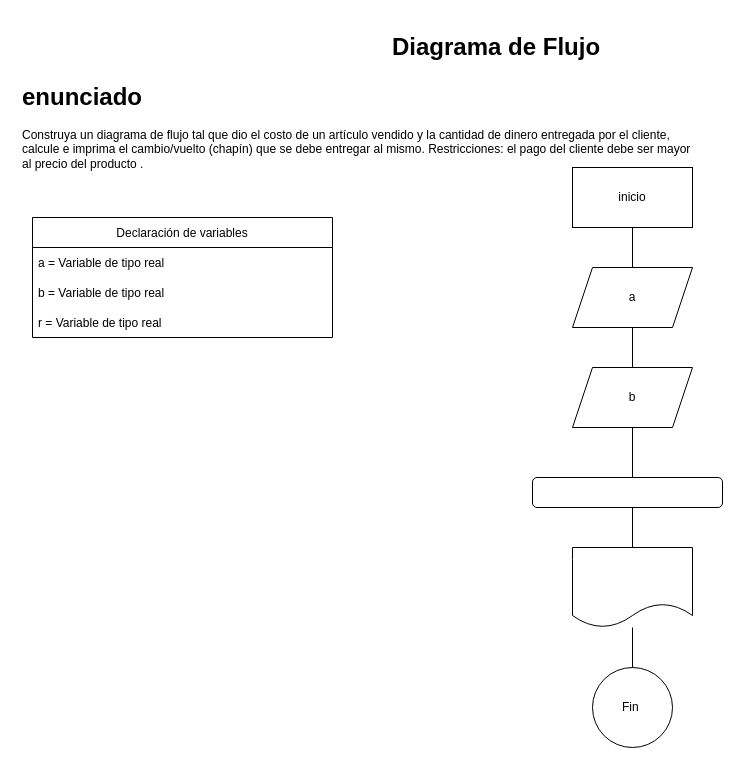
The diagram is 740 pixels wide and 765 high, and some of its shapes have lost their labels. Here are the shapes that lost their labels. From the top down, the centre of each, then its label:
At pixel 627 492: "R= a > b".
At pixel 632 587: "El resultado de la operación es: (R)".
